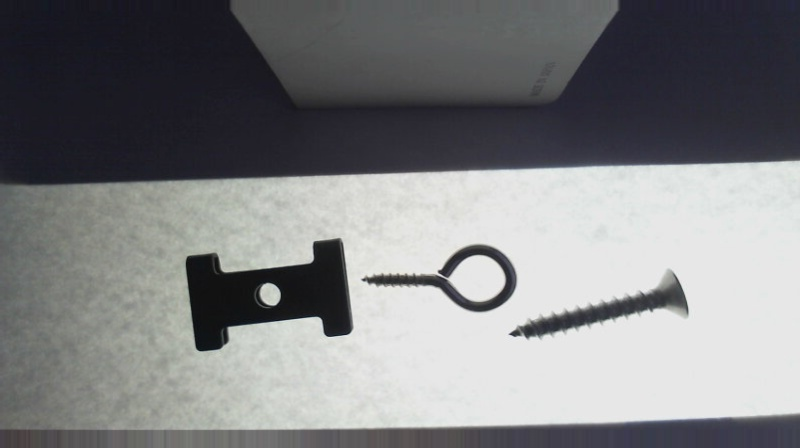O001: (360, 244, 518, 311)
O002: (184, 237, 354, 351)
S001: (510, 266, 689, 339)
